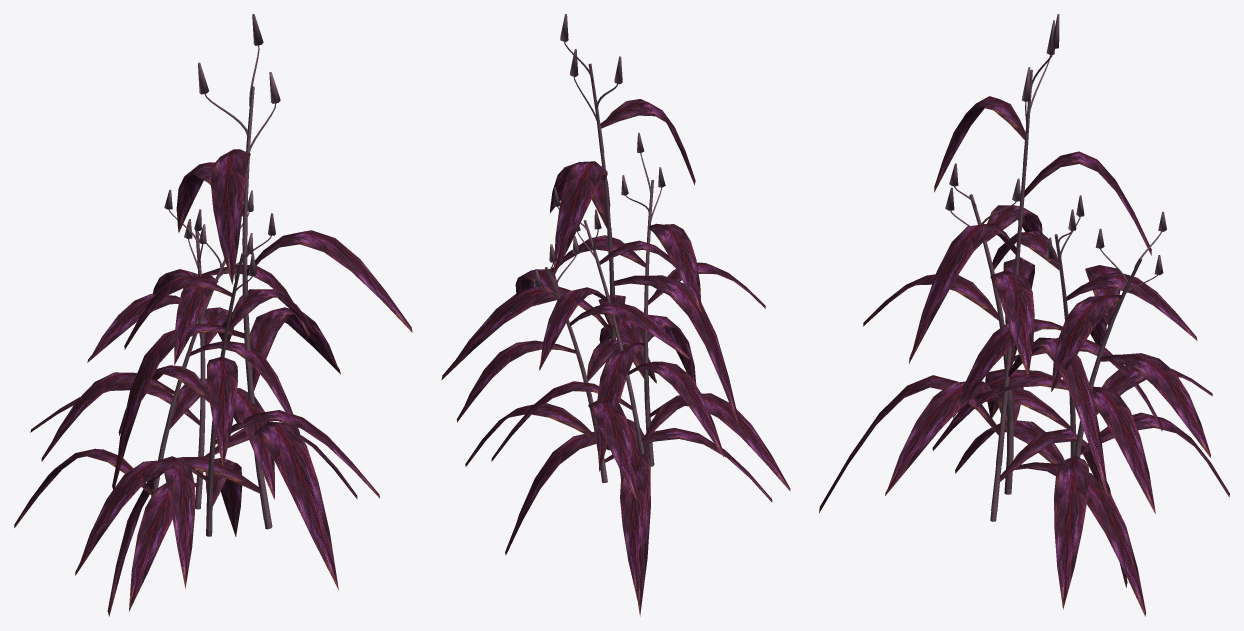
Rendered from finegrass_02.glb.
3 views of the same model, side by side, from view 1: azimuth 30°, elevation 25°; view 2: azimuth 150°, elevation 25°; view 3: azimuth 270°, elevation 25° (orthographic). The views are drawn at different scales.
Visible parts, largest first — view 1: export; view 2: export; view 3: export.
Boxes of the visible parts, bbox=[...] form: export: bbox=[14, 14, 412, 616]; export: bbox=[441, 14, 790, 616]; export: bbox=[819, 14, 1229, 616].
Size of the model in its own units: 0.9486 by 1.69 by 0.9964.
2 materials, 2 textured.
